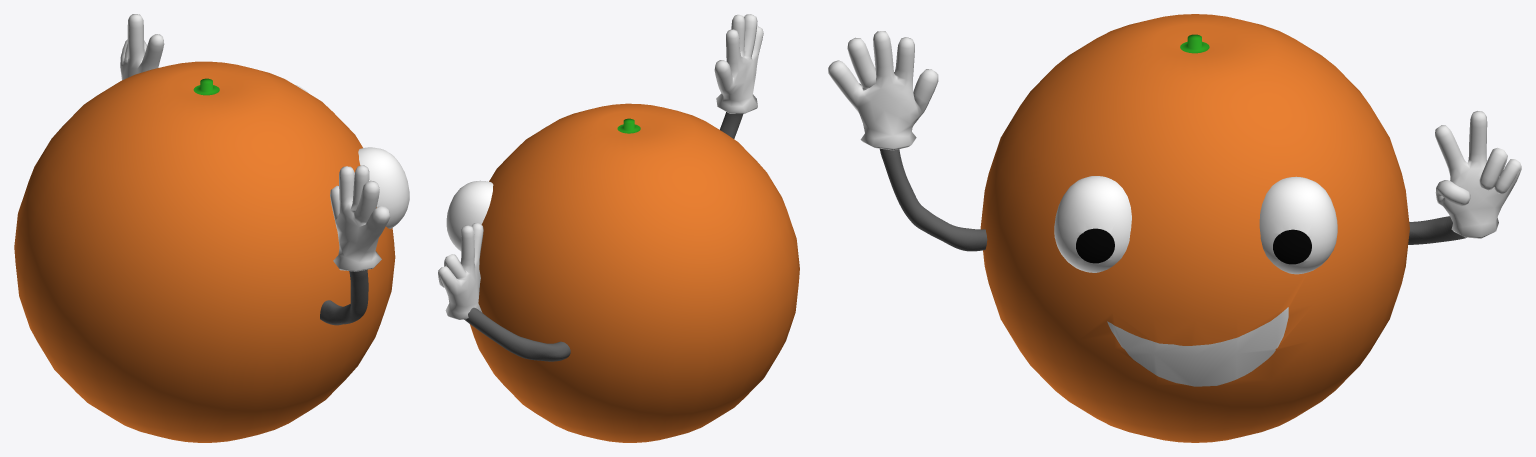
File: mauricio.glb
3 views of the same model, side by side, from view 1: azimuth 30°, elevation 25°; view 2: azimuth 150°, elevation 25°; view 3: azimuth 270°, elevation 25° (orthographic). The views are drawn at different scales.
Visible parts, largest first — view 1: Face, Left Hand, Right Eye, Right Hand, Left Arm; view 2: Face, Left Hand, Right Hand, Right Arm, Left Eye, Left Arm; view 3: Face, Left Hand, Right Hand, Left Eye, Right Eye, Left Arm, Right Arm.
Boxes of the visible parts, x1,y1,x2,y2 form: Face: (14, 61, 395, 442); Left Hand: (330, 165, 390, 271); Right Eye: (358, 147, 409, 228); Right Hand: (120, 14, 164, 80); Left Arm: (320, 269, 368, 325); Face: (470, 103, 799, 442); Left Hand: (714, 14, 763, 113); Right Hand: (438, 222, 483, 319); Right Arm: (464, 307, 570, 361); Left Eye: (446, 180, 493, 251); Left Arm: (720, 112, 743, 138); Face: (980, 14, 1409, 442); Left Hand: (828, 31, 938, 150); Right Hand: (1435, 111, 1521, 238); Left Eye: (1259, 176, 1337, 274); Right Eye: (1054, 176, 1131, 272); Left Arm: (879, 148, 987, 251); Right Arm: (1408, 216, 1466, 244).
Bounding box in the file's own units: 2 × 2.06 × 3.23.
